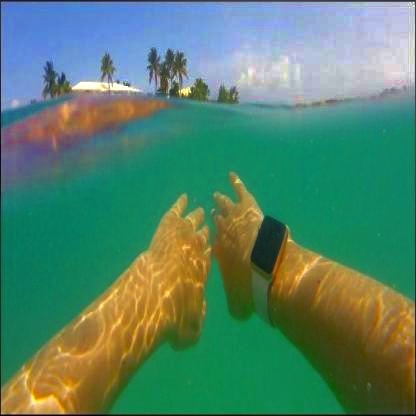electronics: (250, 212, 290, 328)
